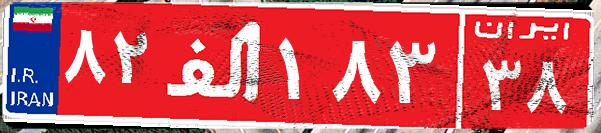1: (273, 28, 330, 110)
2: (110, 28, 158, 105)
3: (385, 28, 445, 110), (475, 38, 525, 113)
8: (330, 28, 385, 110), (57, 26, 110, 107), (525, 38, 570, 115)
الف: (158, 15, 273, 115)
